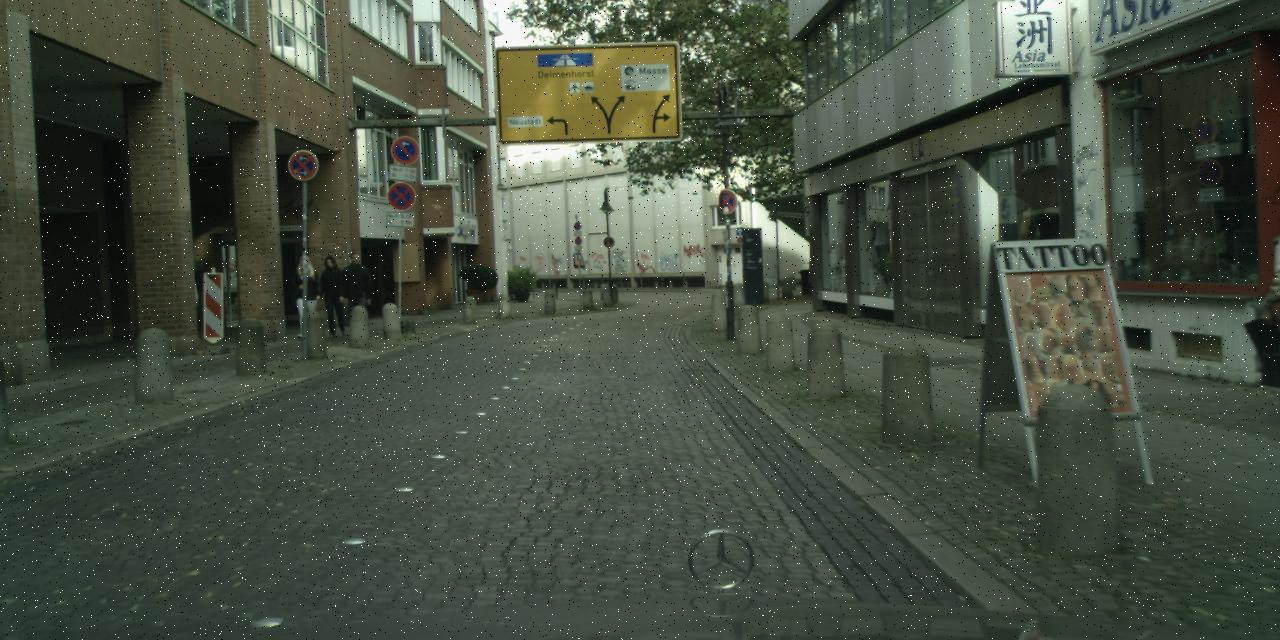ped: (338, 252, 374, 336), (287, 254, 322, 339), (318, 254, 350, 336)
